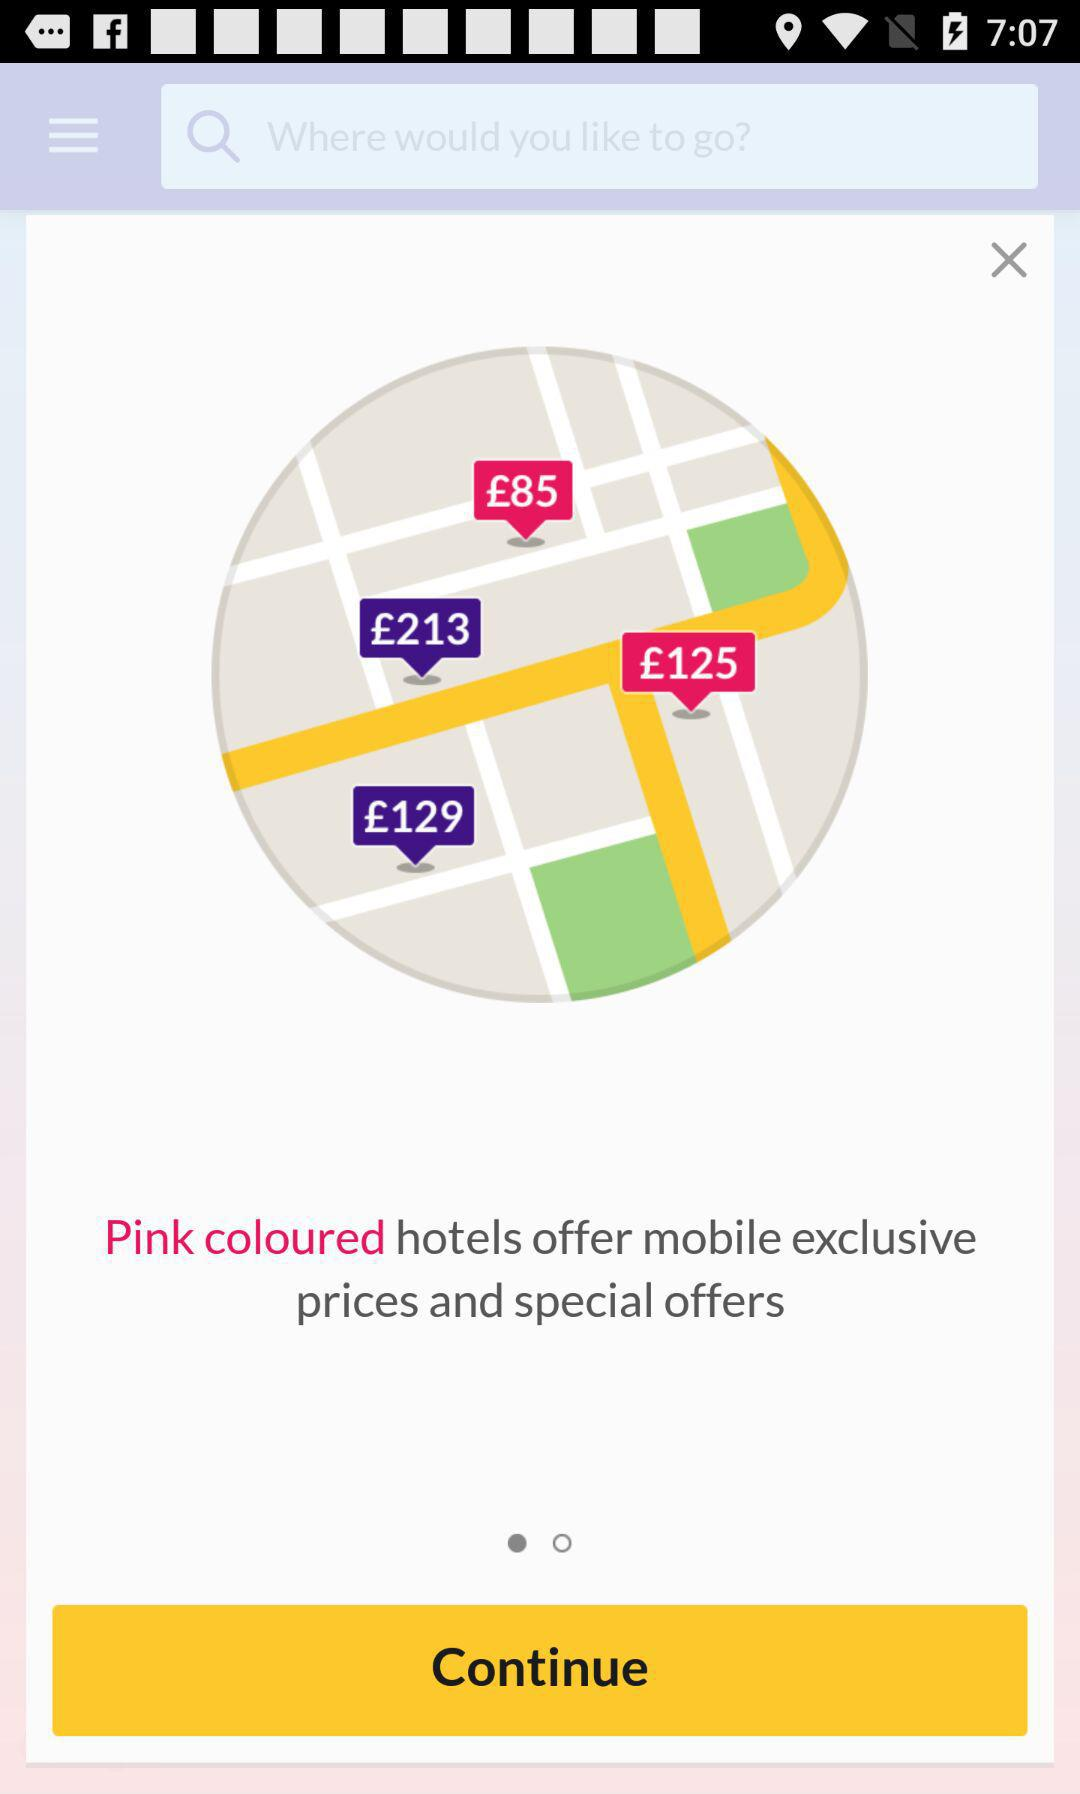Icon: (992, 242, 1027, 279)
Image: (211, 345, 871, 1005)
PageIndicator: (507, 1533, 573, 1554)
Text: (108, 1217, 978, 1328)
TextButton: (53, 1604, 1027, 1736)
UpperTaskBar: (1, 1, 1080, 64)
